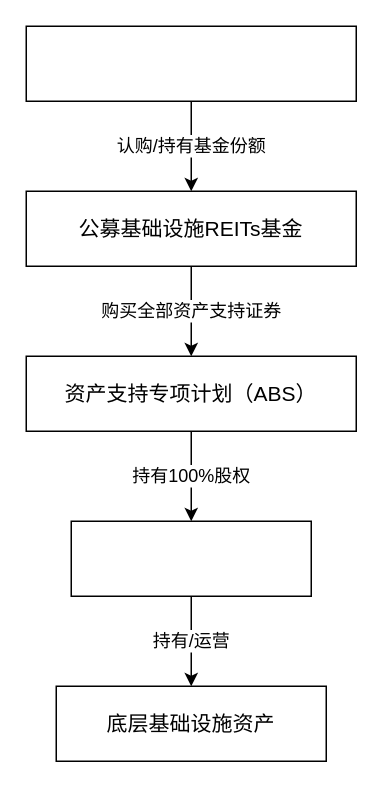
Some shapes in this 383 by 788 pixel diagram are drawn without their labels. Each missing label, with the centre of its shape:
"基金份额持有人（投资者）" goes at [190,63].
"项目公司" goes at [190,558].
